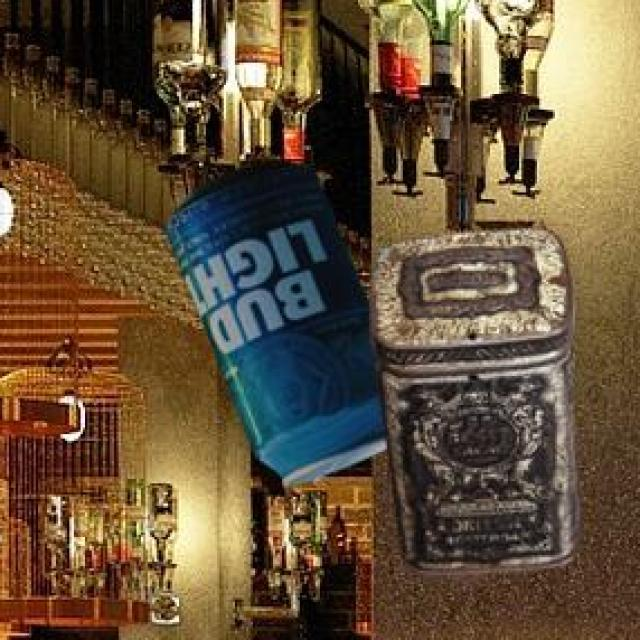logam: (368, 225, 578, 572), (162, 158, 384, 482)
